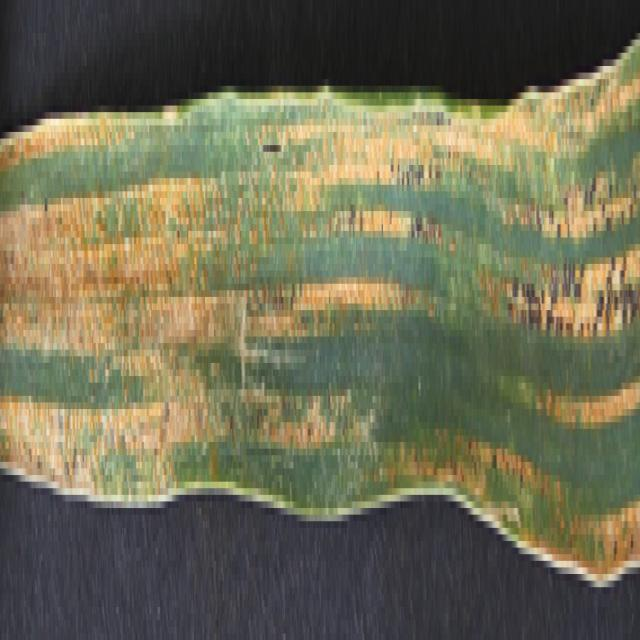leaf rust: (1, 86, 639, 554)
